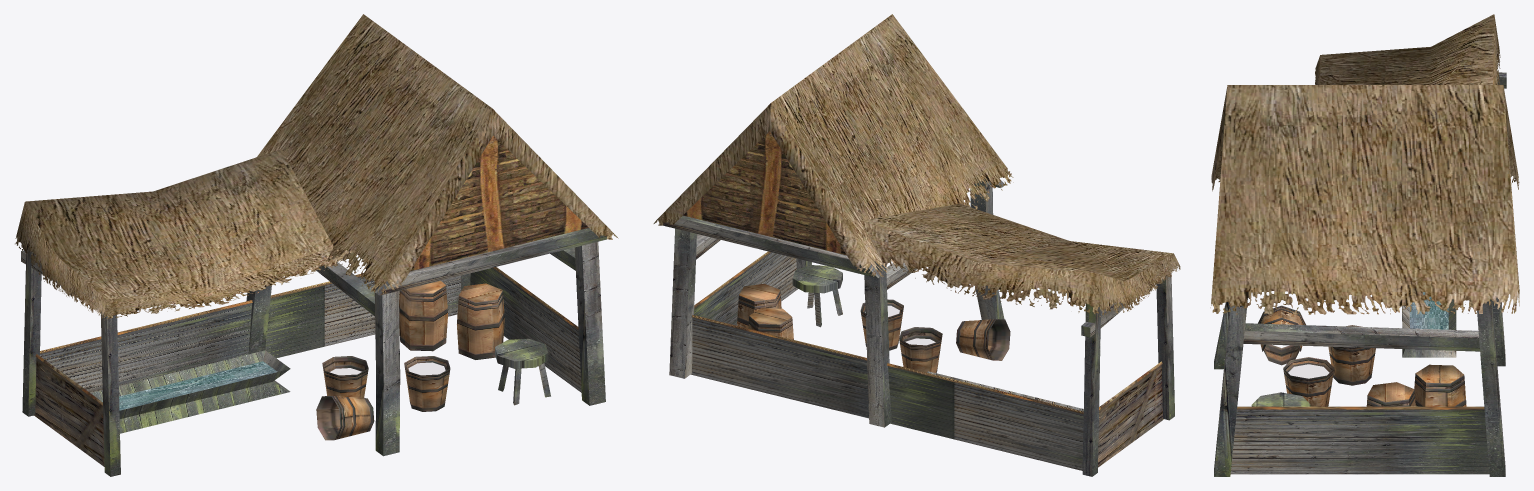
Rendered from building_farm_dairy.glb.
The picture shows the model from 3 angles, left to right: view 1: azimuth 30°, elevation 25°; view 2: azimuth 150°, elevation 25°; view 3: azimuth 270°, elevation 25°; orthographic projection. The views are drawn at different scales.
Visible parts, largest first — view 1: building_farm_dairy; view 2: building_farm_dairy; view 3: building_farm_dairy.
Part boxes in pixels (x1,y1,x2,y2): building_farm_dairy: (15,14,618,476); building_farm_dairy: (653,14,1180,476); building_farm_dairy: (1210,14,1519,476).
Bounding box in the file's own units: 7.82 × 5.03 × 4.16.
7 materials, 7 textured.
